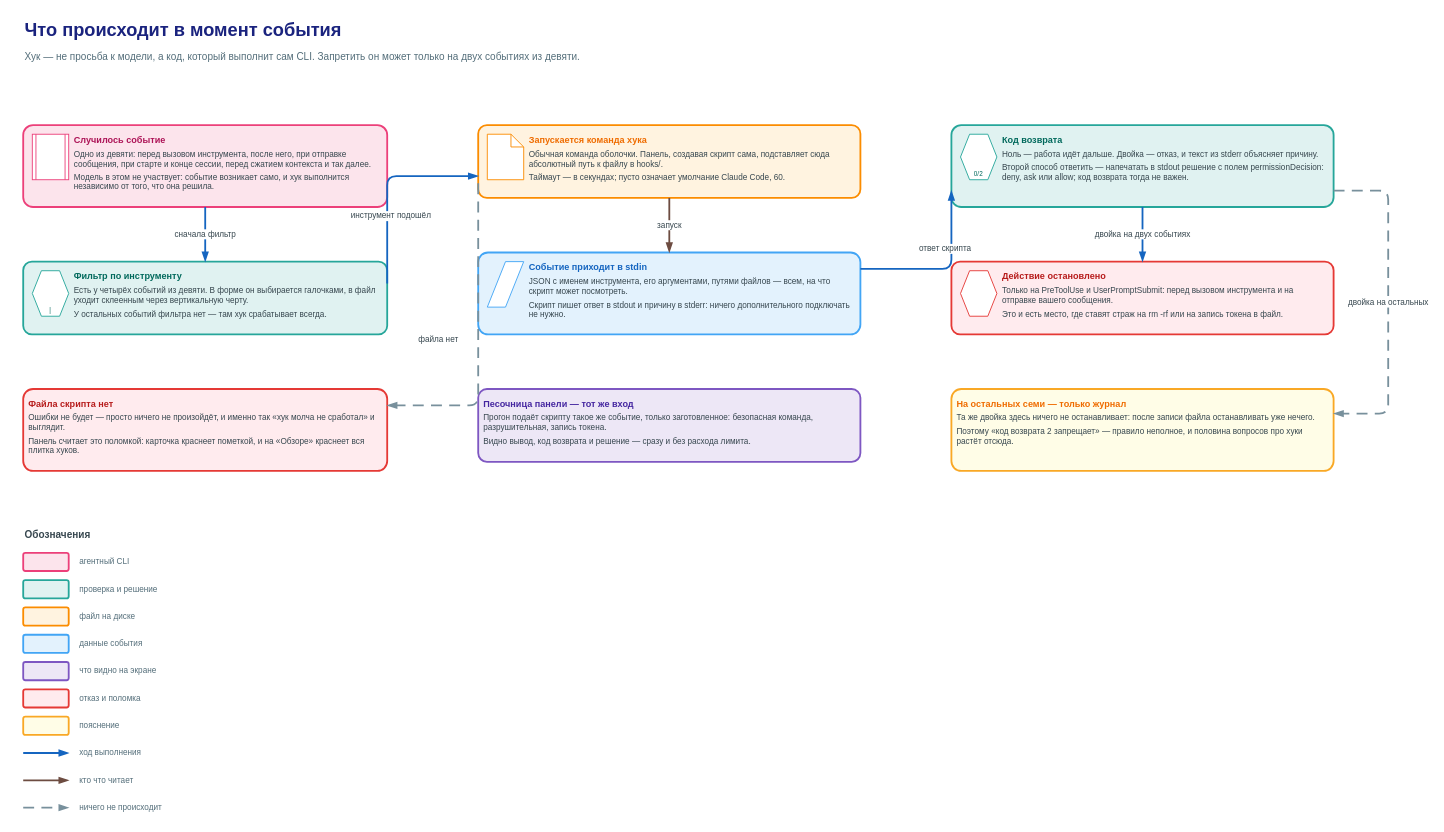
Some shapes in this 1444 by 832 pixel diagram are drawn without their labels. Each missing label, with the centre of its shape:
"CLI" belongs at (50,156).
"json" belongs at (505,284).
"sh" belongs at (505,156).
"stop" belongs at (978,293).
